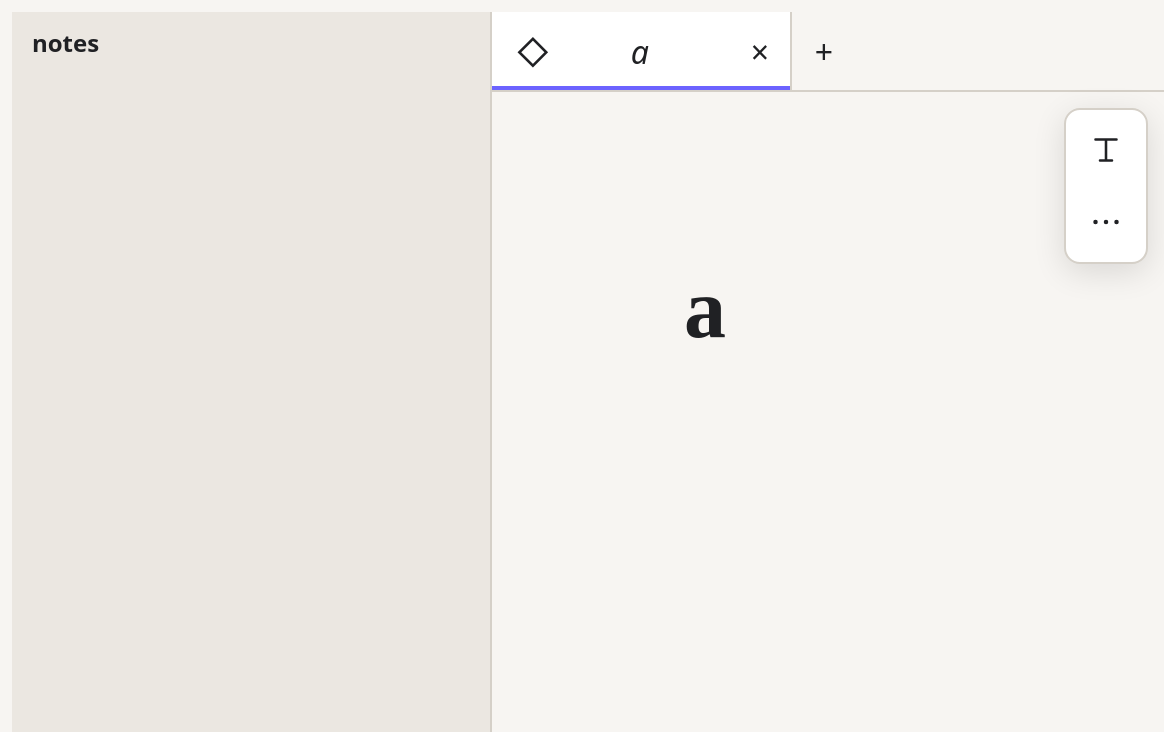
it: spec 0003 preview tabs › AC43 AC58: out-of-root files have no secondary path and closing the sole preview restores workspace empty state
Click the button with test id "document-tab-close" at x=760, y=51, box [728, 12, 792, 90]
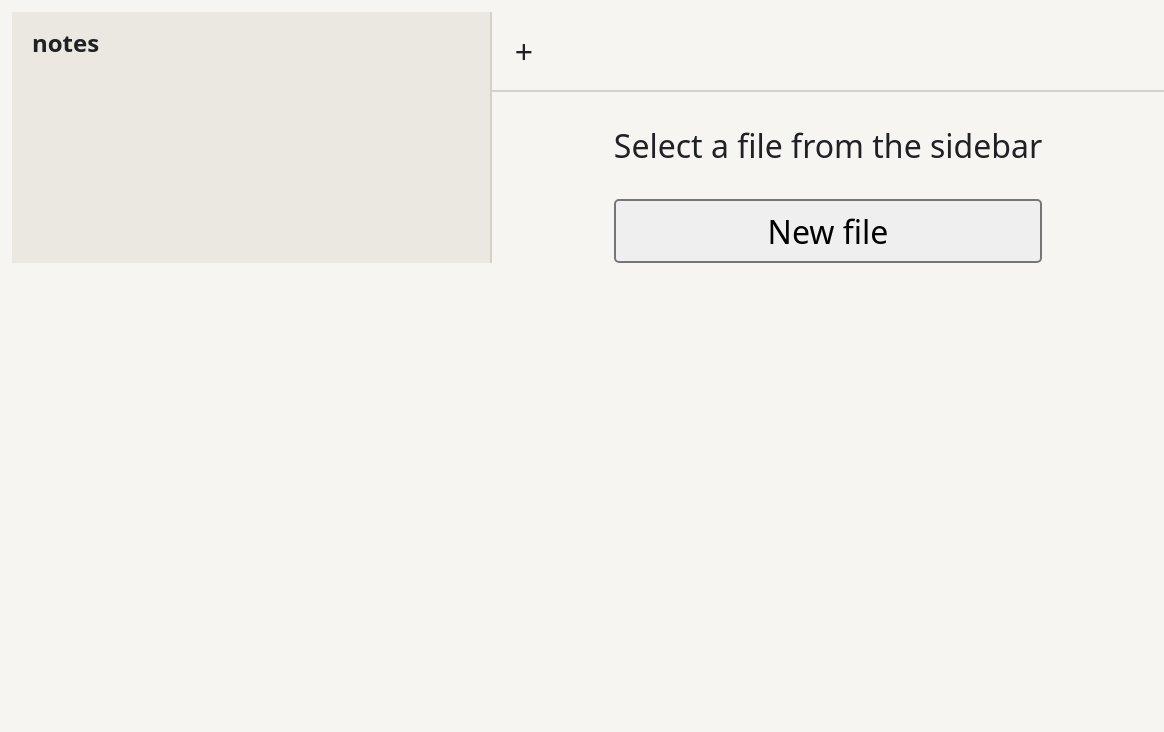
Expected: no tabs with test id "document-tab" are shown
Expected: the text with test id "empty-document-message" reads "Select a file from the sidebar", [614, 124, 1042, 167]
